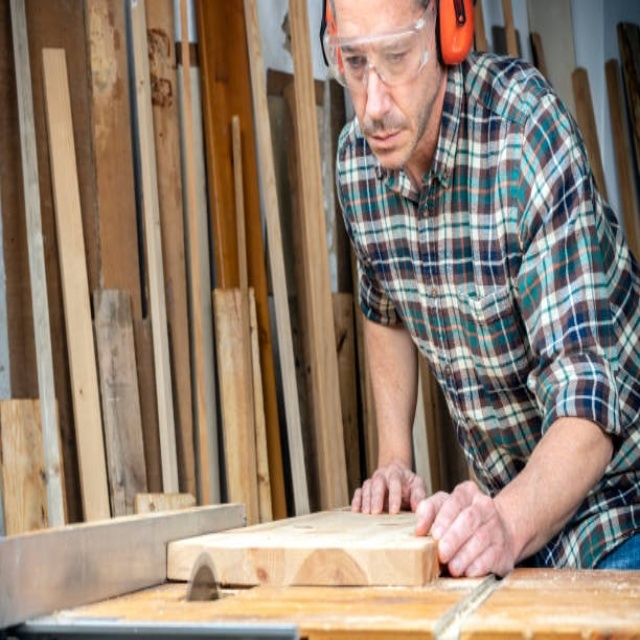Gafas: (324, 1, 440, 91)
Sin_guantes: (420, 478, 515, 579), (350, 461, 427, 517)
Sin_mascara: (360, 118, 416, 166)
